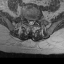CCS_normal: (30, 18, 32, 27)
LFS_stenosis: (34, 17, 36, 23)
LLS_normal: (32, 18, 34, 26)
RFS_severe_stenosis: (25, 16, 27, 23)
RLS_normal: (27, 18, 30, 26)
